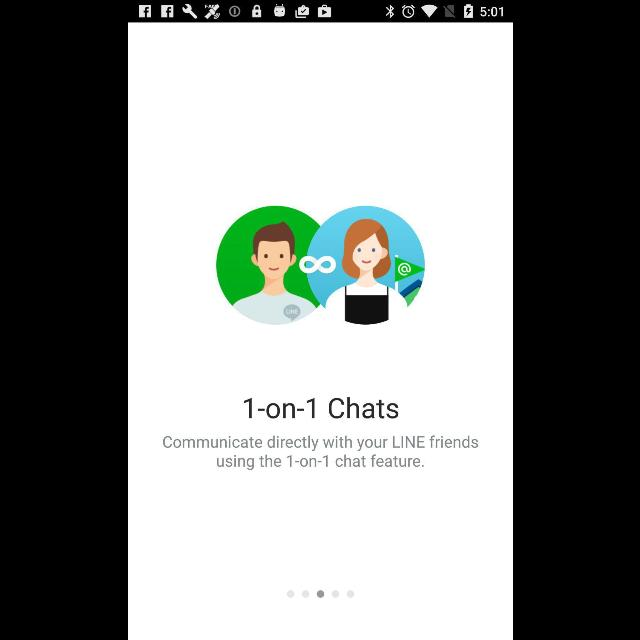image: (216, 206, 424, 324)
pageindicator: (286, 590, 354, 598)
text: (162, 436, 478, 470), (244, 397, 398, 419)
uppertaskbar: (128, 1, 512, 23)
